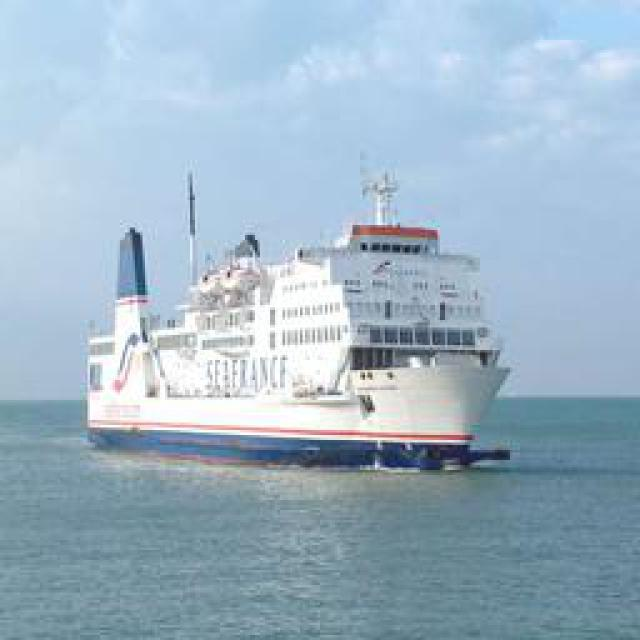Ship: (84, 156, 504, 466)
